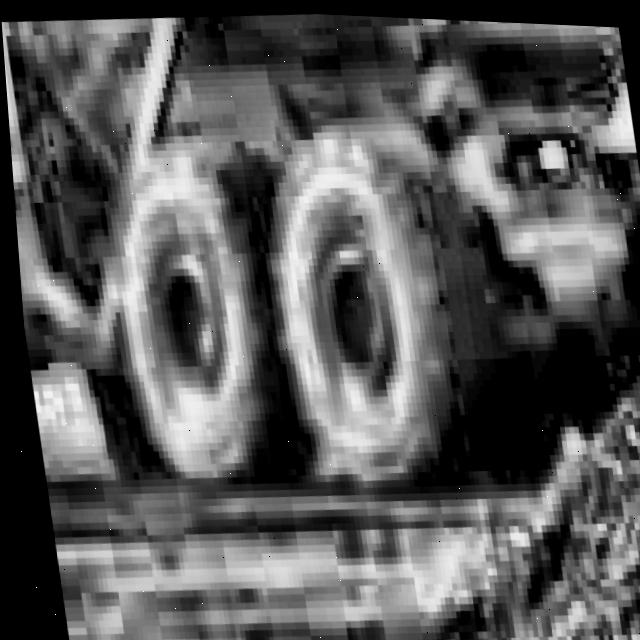dump_truck: (0, 0, 640, 565)
